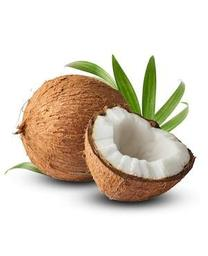coconut: (21, 75, 130, 183), (82, 104, 196, 201)
